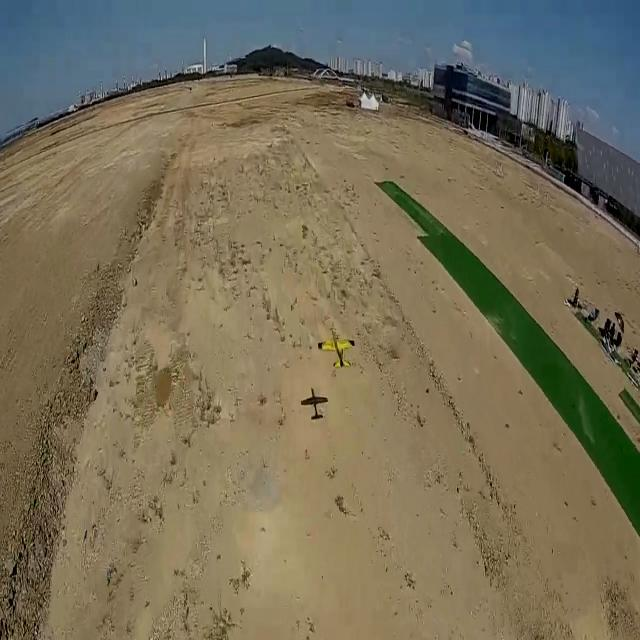iha: (312, 330, 375, 382)
